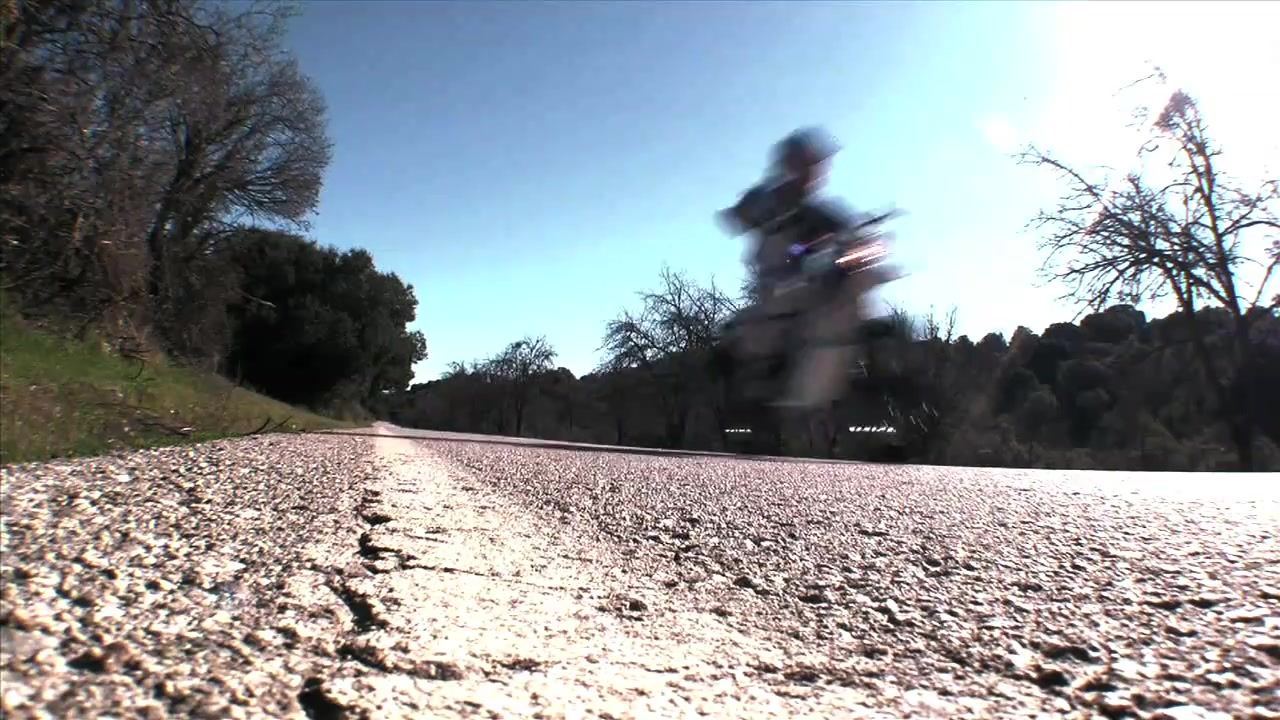motorbike: (689, 211, 959, 455)
